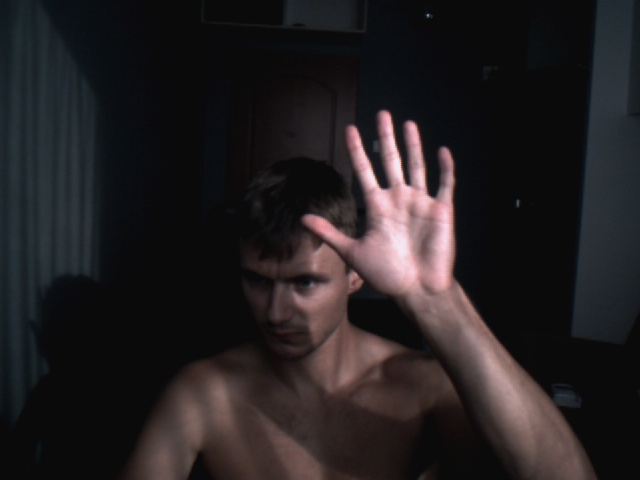open: (300, 110, 455, 297)
